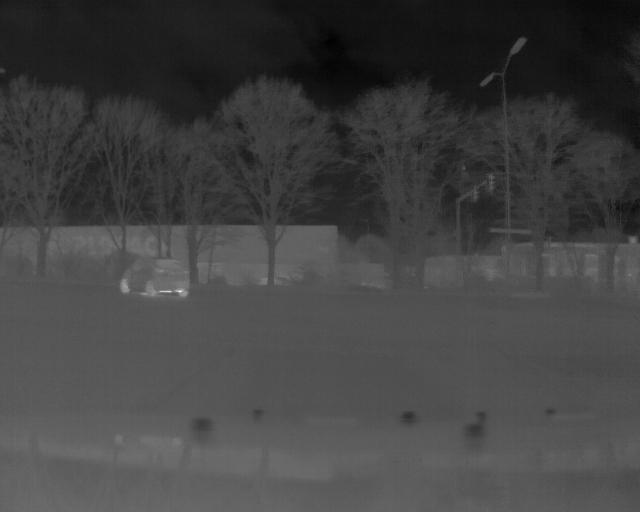car: (117, 253, 194, 300)
